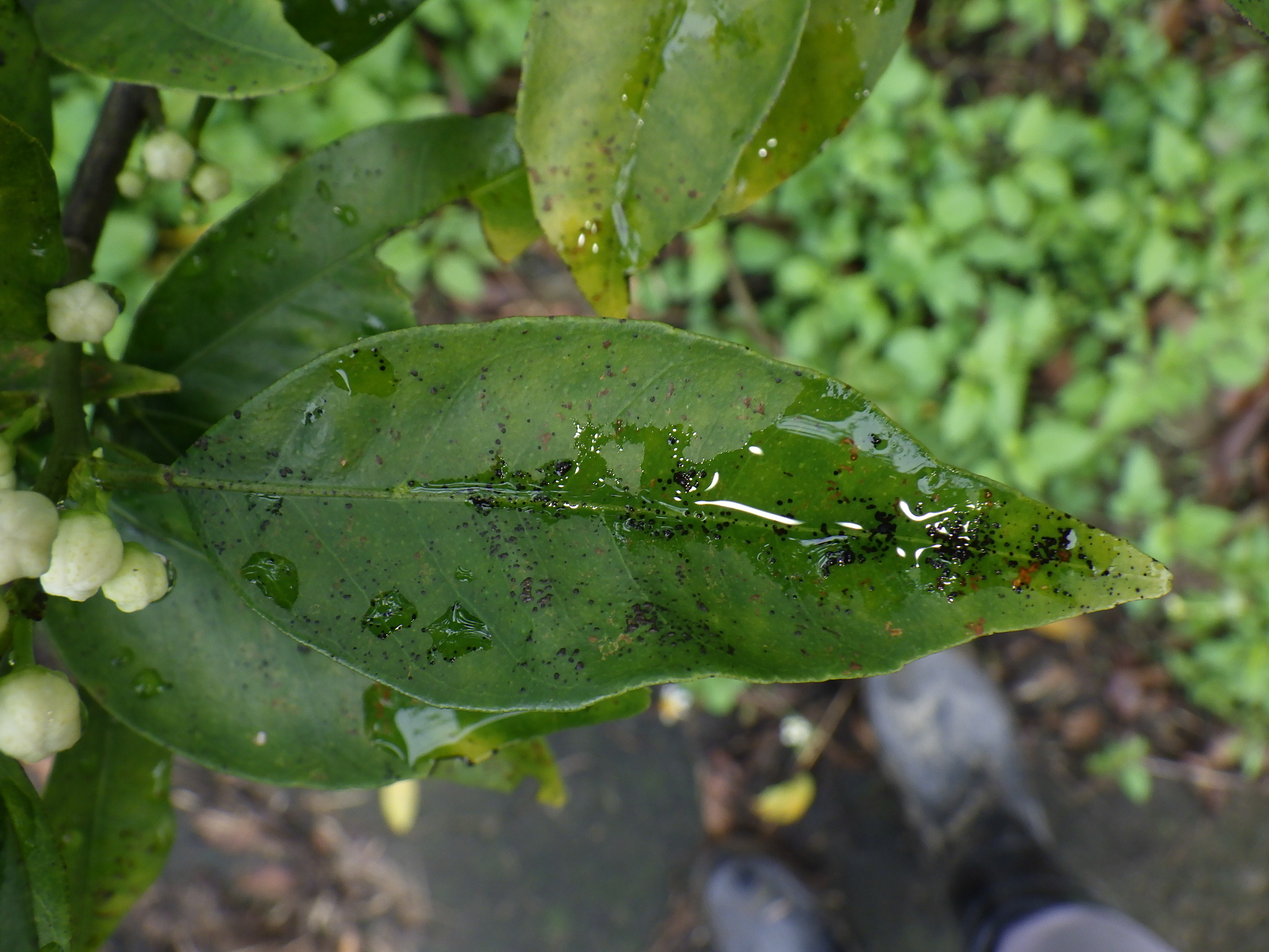Oily_Spot: (159, 318, 1167, 710)
